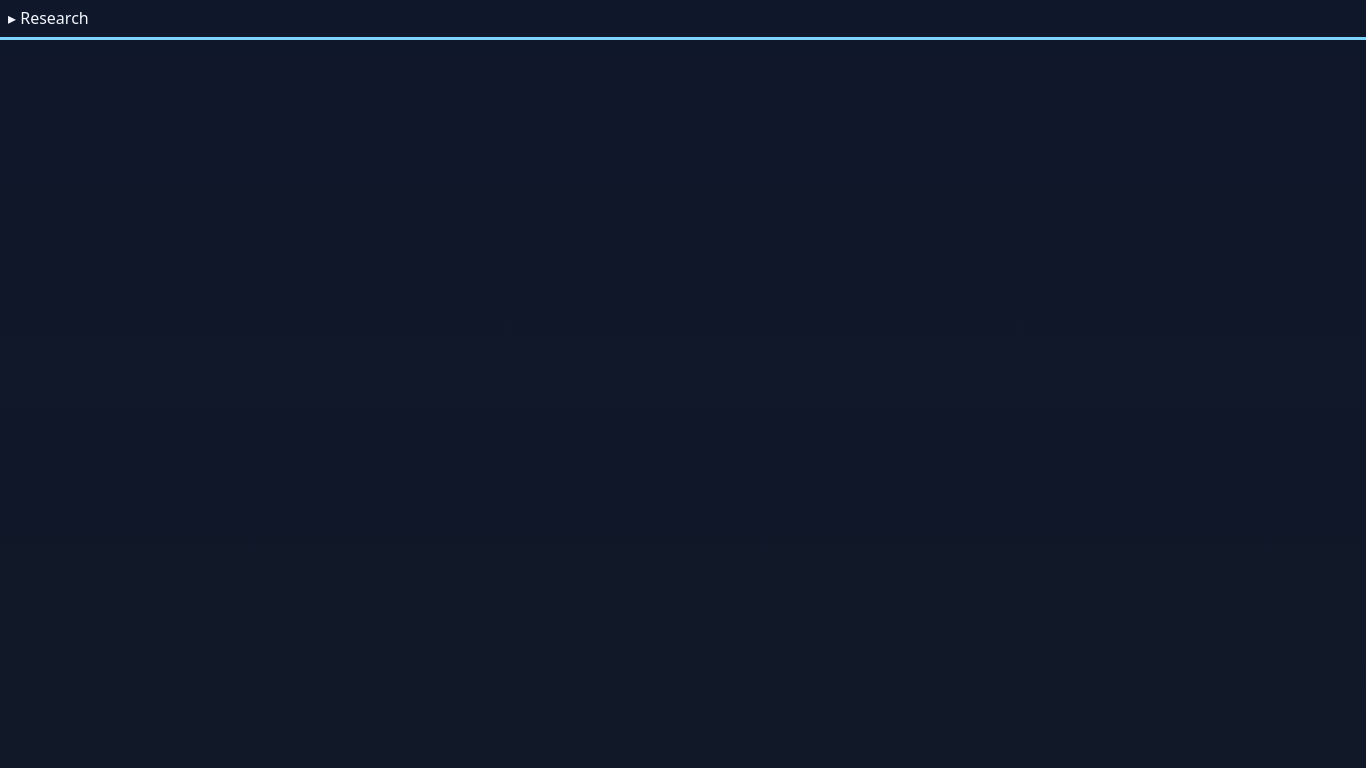
Scenario: accessible vault tree › renames an item through a focused dialog and restores focus after submission
The image size is (1366, 768).
Press F2 in the list item "▸ Research", box [8,6,168,29]
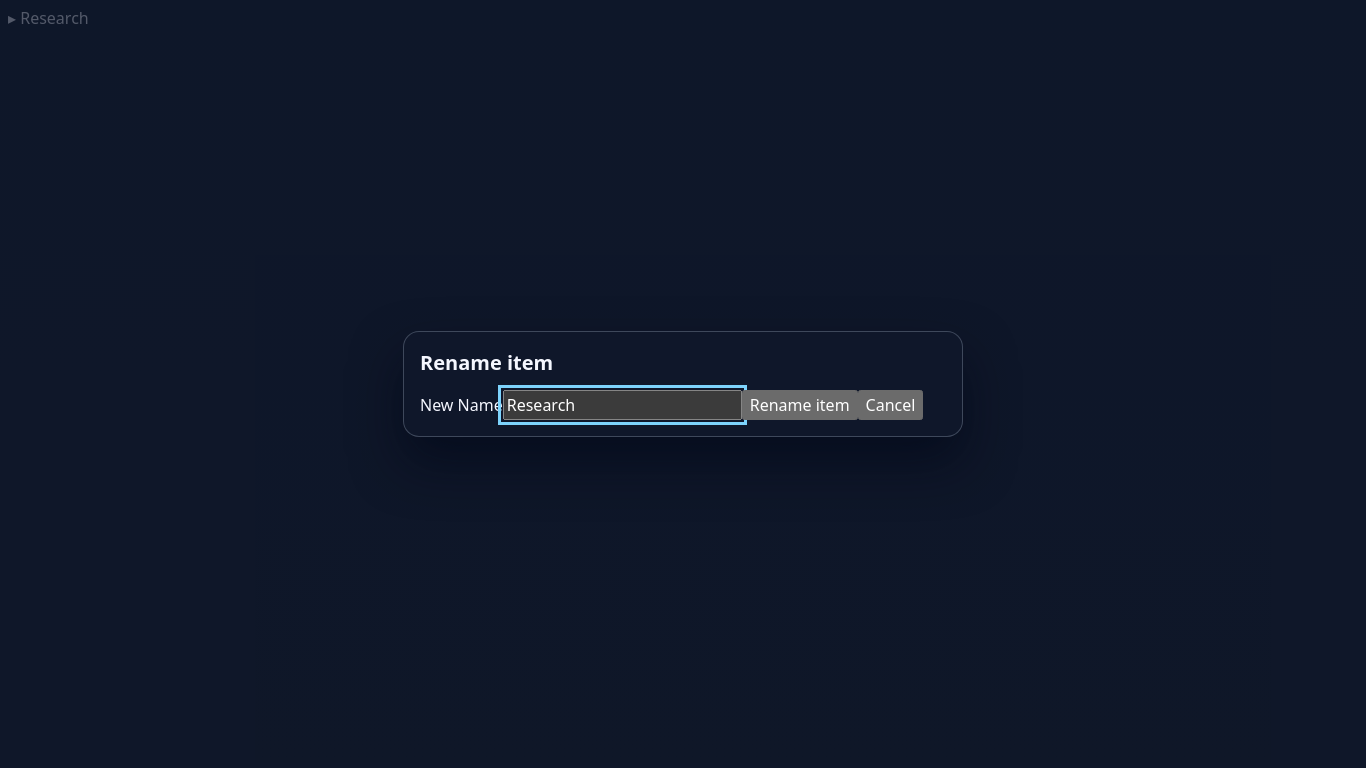
Replace the text in the field labelled "New Name" with "  Archive  " at {"x": 622, "y": 405}, box [503,390,742,420]
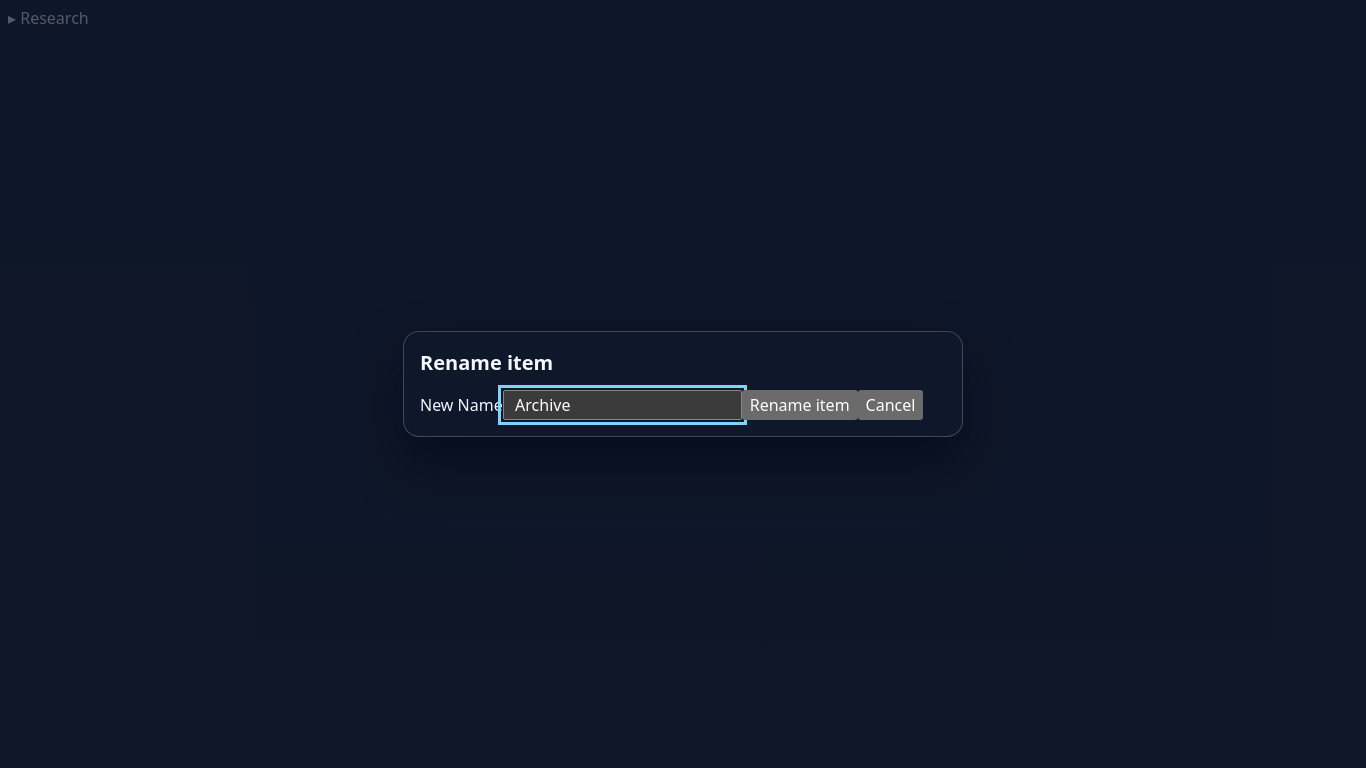
Click the button "Rename item" at {"x": 800, "y": 405}, box [742,390,858,420]
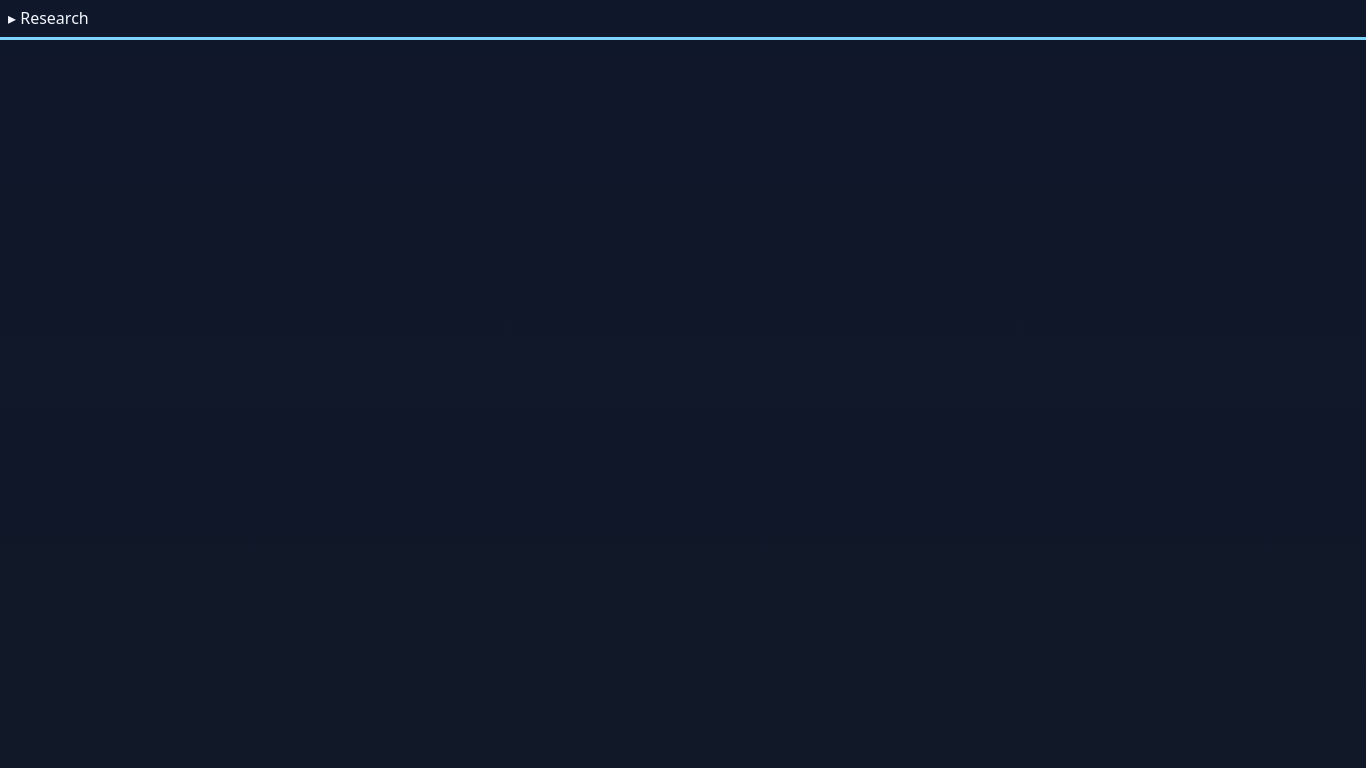
Now the dialog is gone
